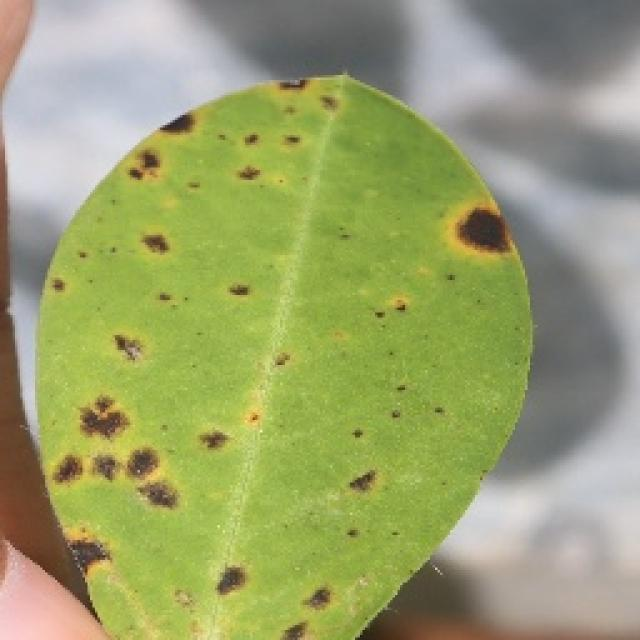Yellowish: (26, 59, 542, 623)
